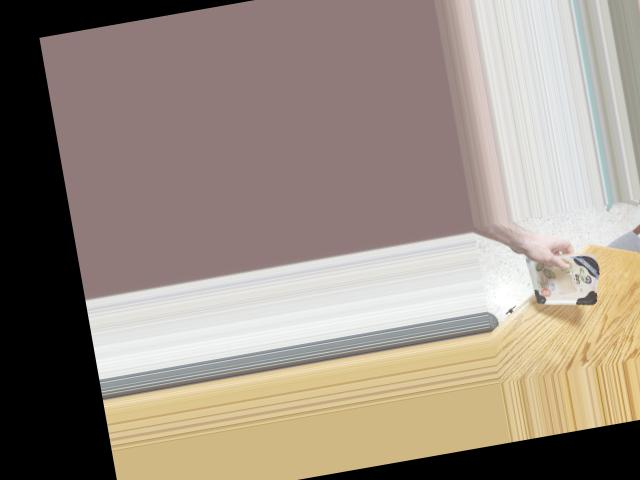cheese: (522, 240, 606, 315)
